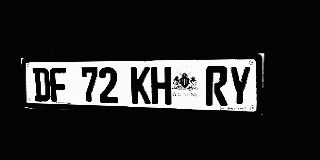2: (99, 67, 118, 103)
7: (80, 67, 99, 103)
D: (32, 67, 51, 102)
F: (49, 67, 68, 102)
H: (151, 66, 171, 105)
K: (131, 67, 151, 104)
R: (206, 66, 228, 106)
Y: (228, 66, 252, 106)
